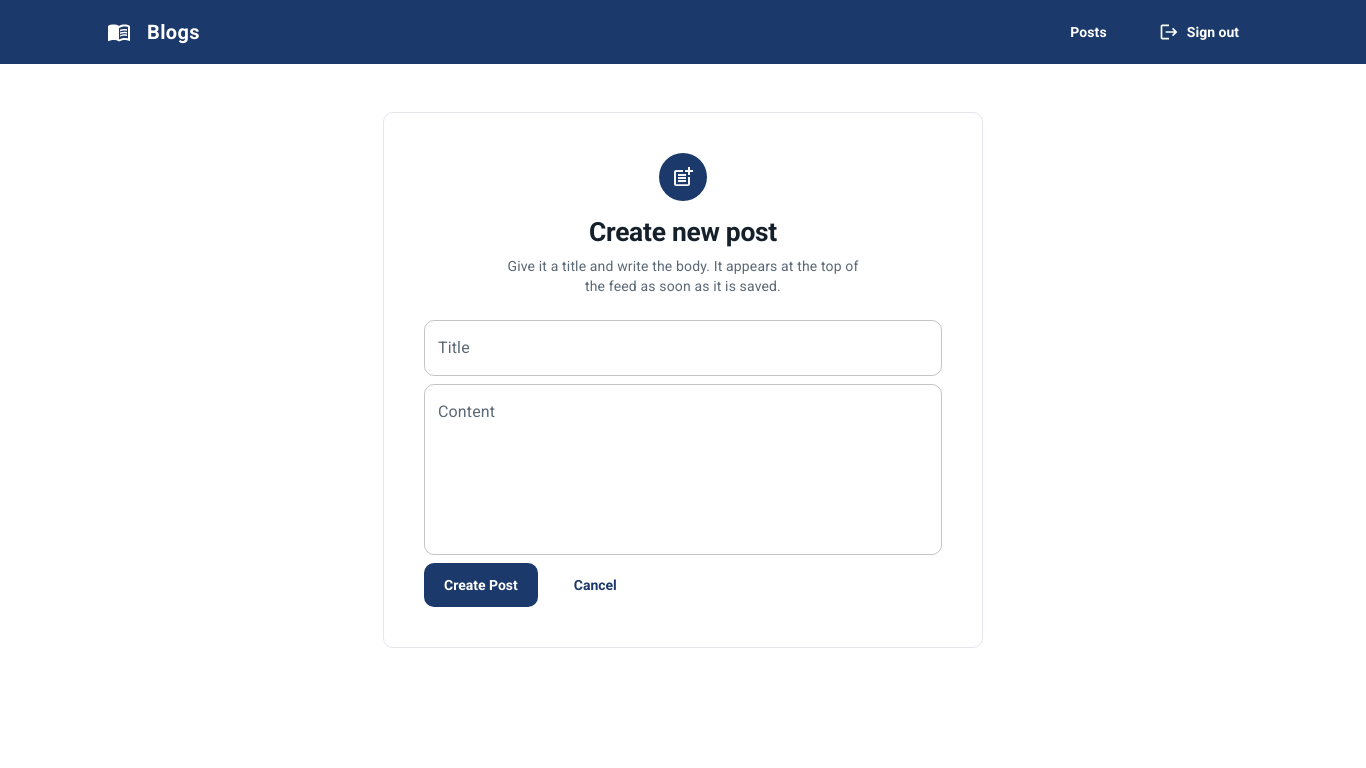
Scenario: <NewPost /> › enforces the minimum title length the API requires
Type "ab" into the field labelled "Title" at (683, 348), box [424,320,942,376]
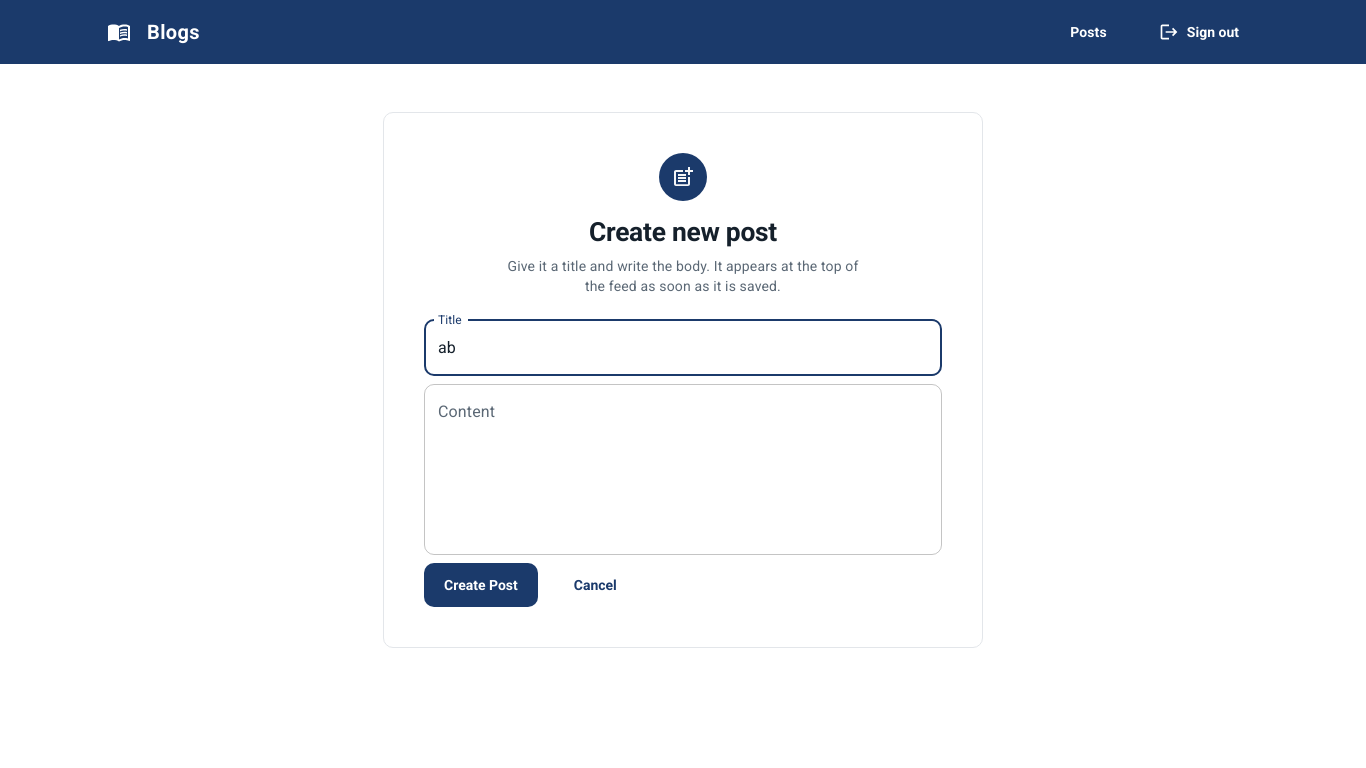
Type "A health check your orchestrator can believe." into the text box labelled "Content" at (683, 469), box [438,400,928,538]
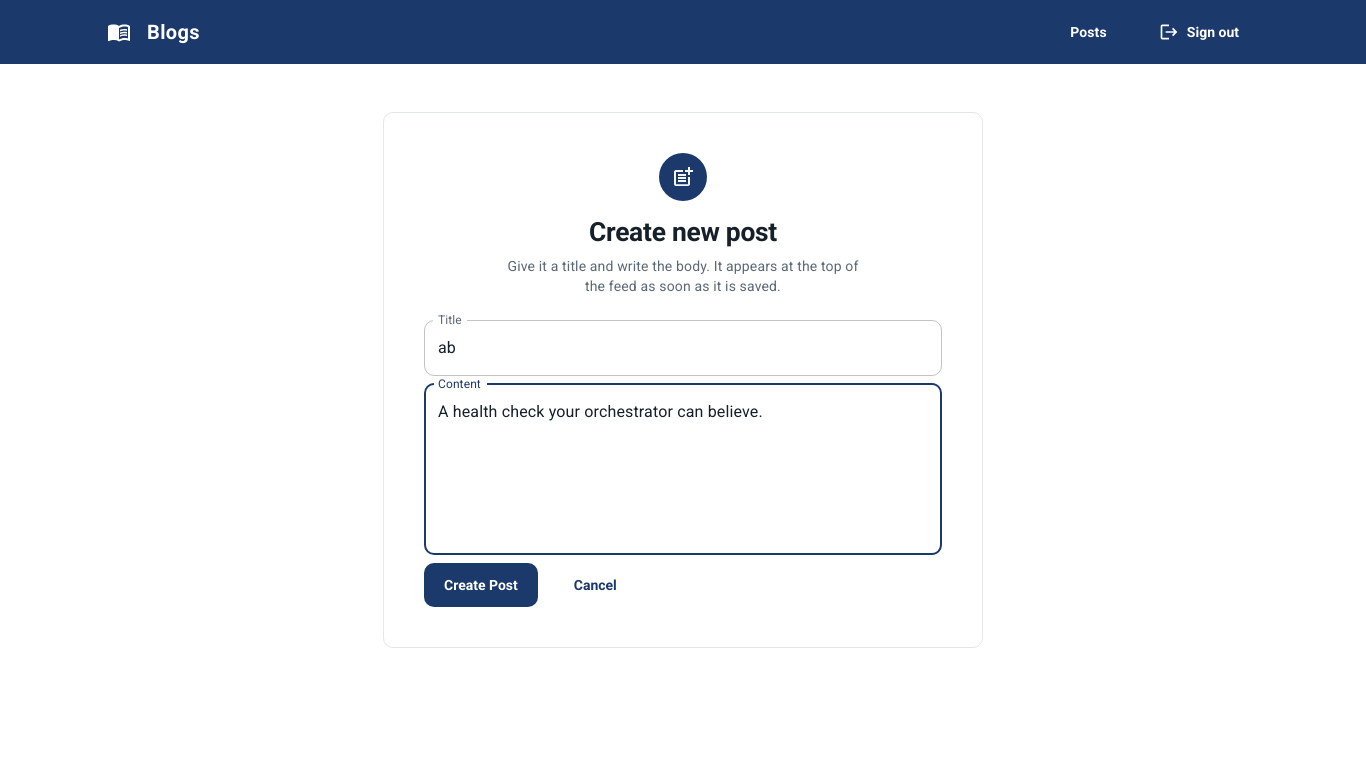
Click the button "Create Post" at (481, 585), box [424,563,538,607]
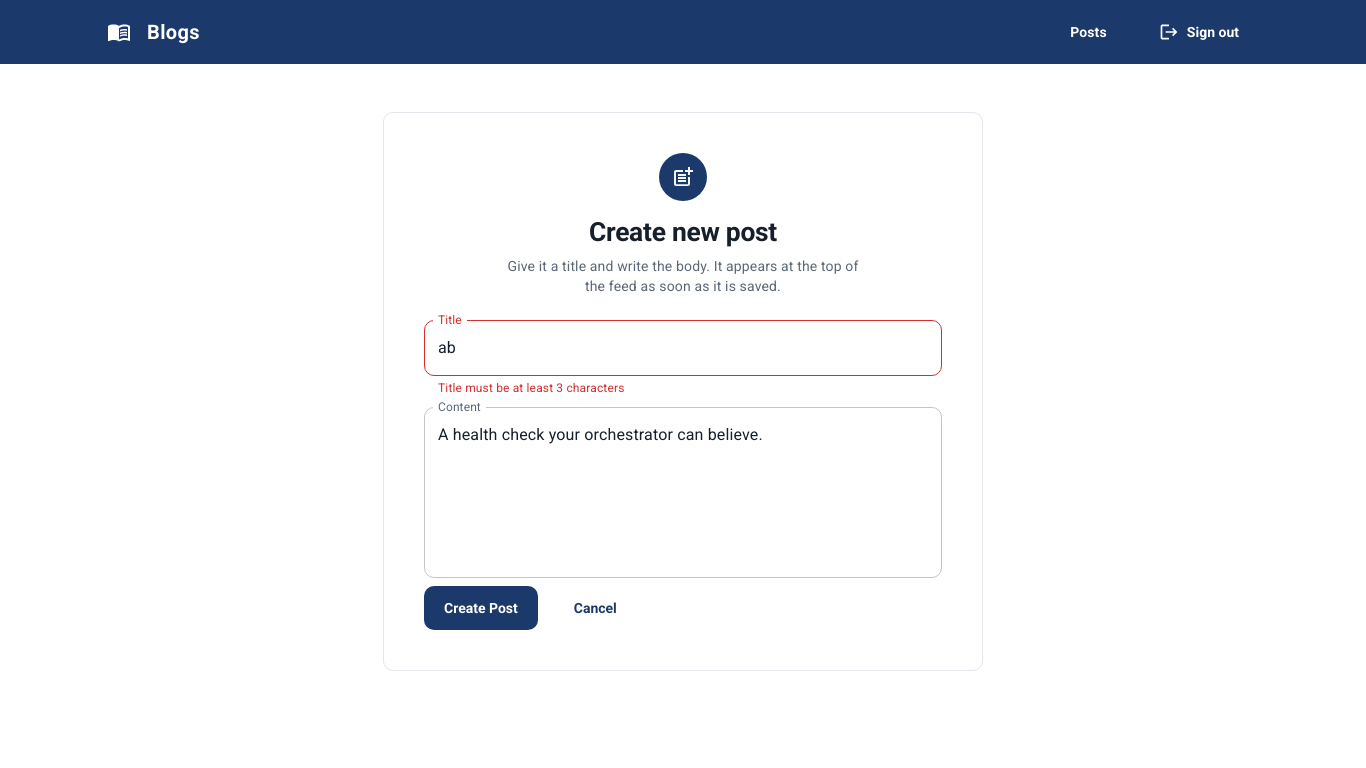
Check: the text "Title must be at least 3 characters" is shown, box [438,381,624,395]
